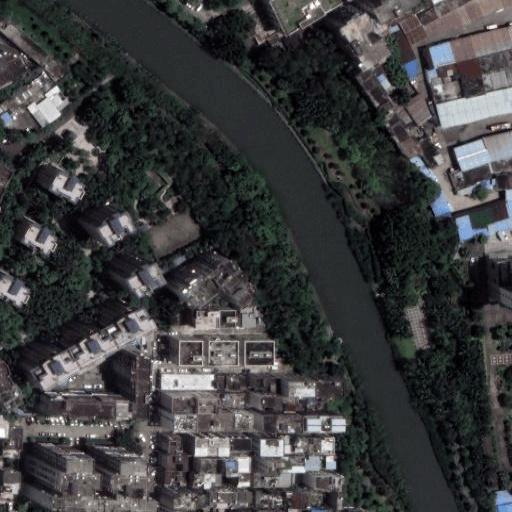building: (13, 294, 142, 383), (355, 61, 444, 170), (26, 444, 124, 503), (399, 0, 512, 48), (0, 12, 71, 82), (421, 26, 512, 71), (166, 244, 240, 296), (435, 86, 512, 131), (324, 4, 375, 62), (407, 153, 450, 217), (148, 211, 201, 257), (452, 201, 509, 243), (26, 391, 120, 411), (183, 306, 252, 331), (386, 22, 415, 81), (160, 373, 227, 396), (7, 214, 47, 251), (76, 201, 116, 237), (101, 250, 140, 286), (451, 160, 495, 191), (197, 333, 237, 366), (34, 165, 73, 198), (451, 137, 489, 170), (117, 344, 135, 412), (455, 58, 486, 97), (237, 332, 273, 365), (199, 413, 257, 433), (190, 458, 223, 490), (167, 333, 198, 366), (282, 23, 318, 51), (264, 415, 306, 438), (41, 80, 71, 111), (481, 131, 512, 160), (406, 93, 434, 124), (1, 423, 25, 459), (196, 436, 232, 460), (161, 434, 197, 458), (306, 415, 347, 435), (431, 79, 463, 104), (34, 94, 61, 123), (209, 491, 255, 507), (26, 102, 52, 130), (285, 489, 325, 507), (427, 64, 458, 86), (482, 69, 512, 91), (0, 358, 14, 405), (266, 459, 307, 475), (306, 455, 338, 475), (291, 396, 328, 413), (368, 17, 392, 43), (254, 490, 285, 510), (252, 473, 296, 487), (261, 395, 292, 414), (306, 436, 335, 456), (358, 0, 394, 16), (259, 437, 283, 460), (199, 395, 228, 414), (236, 456, 254, 486), (175, 413, 199, 435), (282, 438, 306, 460), (0, 273, 18, 302), (310, 372, 337, 391), (247, 373, 281, 388), (172, 395, 199, 413), (226, 372, 248, 394), (175, 496, 209, 510), (281, 373, 310, 389), (228, 394, 251, 414), (164, 456, 191, 473), (311, 476, 342, 490), (5, 471, 22, 495), (496, 261, 512, 286), (492, 489, 512, 507), (164, 474, 191, 486), (435, 212, 454, 228), (231, 438, 251, 451), (209, 506, 251, 512), (503, 176, 512, 201), (0, 491, 15, 505), (225, 461, 238, 477), (334, 489, 343, 510), (498, 504, 512, 512), (311, 506, 329, 512), (285, 507, 303, 512), (255, 509, 285, 512), (170, 510, 209, 512), (329, 510, 343, 512)
